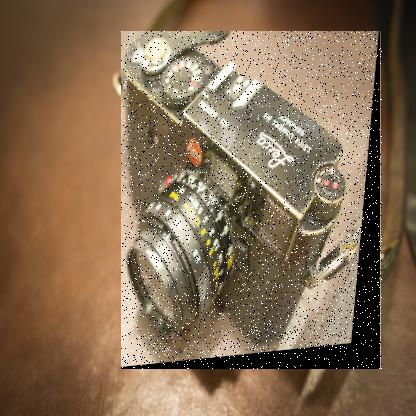Camera: (123, 32, 385, 371)
